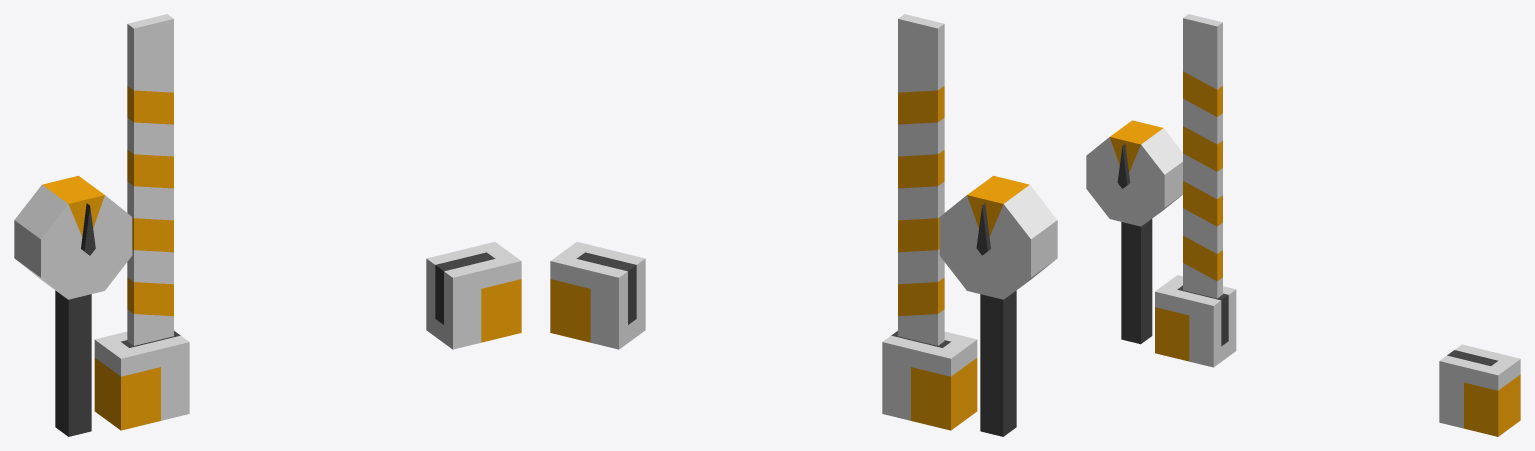
File: Gate.fbx
The picture shows the model from 3 angles, left to right: view 1: azimuth 30°, elevation 25°; view 2: azimuth 150°, elevation 25°; view 3: azimuth 330°, elevation 25°; orthographic projection. The views are drawn at different scales.
Parts seen in each view (by area): view 1: Gate, Barrier, OppositeBase, Base, Timer; view 2: Gate, Barrier, OppositeBase, Base; view 3: Gate, Barrier, OppositeBase, Base.
Boxes of the visible parts, x1=… form: Gate: x1=14, y1=175, x2=132, y2=436; Barrier: x1=127, y1=14, x2=173, y2=345; OppositeBase: x1=426, y1=242, x2=521, y2=349; Base: x1=94, y1=331, x2=189, y2=430; Timer: x1=81, y1=203, x2=95, y2=255; Gate: x1=939, y1=175, x2=1057, y2=436; Barrier: x1=898, y1=14, x2=944, y2=345; OppositeBase: x1=550, y1=242, x2=645, y2=349; Base: x1=882, y1=331, x2=977, y2=430; Gate: x1=1086, y1=120, x2=1182, y2=344; Barrier: x1=1183, y1=14, x2=1222, y2=298; OppositeBase: x1=1439, y1=344, x2=1520, y2=436; Base: x1=1155, y1=275, x2=1236, y2=367.
Size of the model in its own units: 2100 by 1625 by 250.
